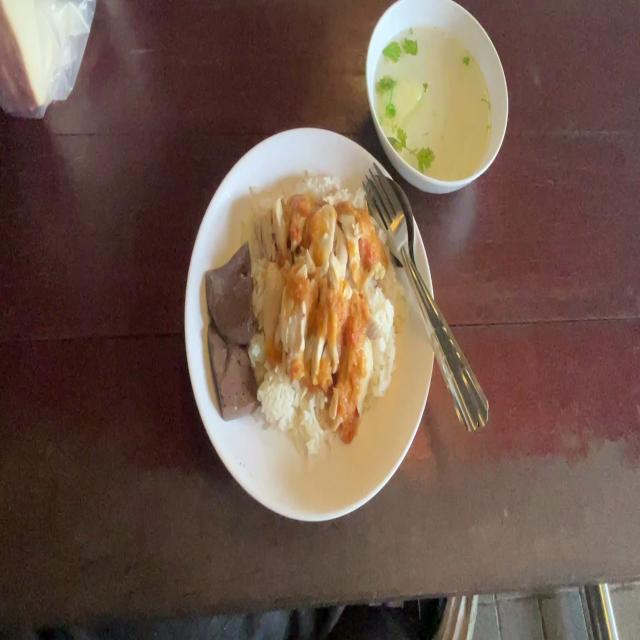boiled_chicken: (259, 204, 373, 415)
boiled_chicken_blood_jelly: (206, 241, 255, 347), (205, 317, 256, 416)
chicken_rice: (208, 177, 400, 448)
